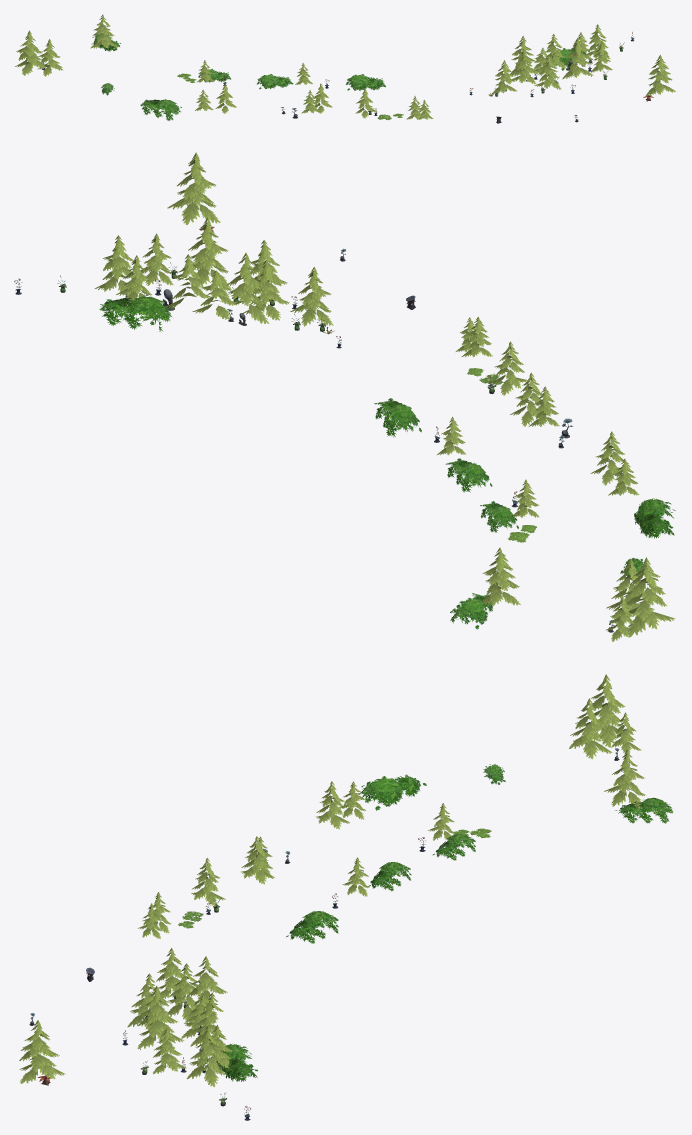
Rendered from zhibei13_1.fbx.
The picture shows the model from 3 angles, top to bottom: view 1: azimuth 30°, elevation 25°; view 2: azimuth 150°, elevation 25°; view 3: azimuth 270°, elevation 25°; orthographic projection. The views are drawn at different scales.
Visible parts, largest first — view 1: zhibei13_1; view 2: zhibei13_1; view 3: zhibei13_1.
Part boxes in pixels (<box>): zhibei13_1: <box>15,14,676,123</box>; zhibei13_1: <box>14,152,675,641</box>; zhibei13_1: <box>19,674,673,1120</box>.
Bounding box in the file's own units: 7926 × 761 × 5759.
